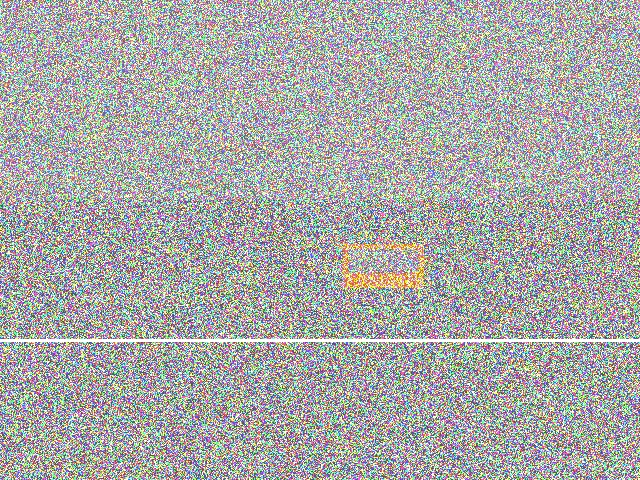motorcycle: (228, 237, 411, 305)
